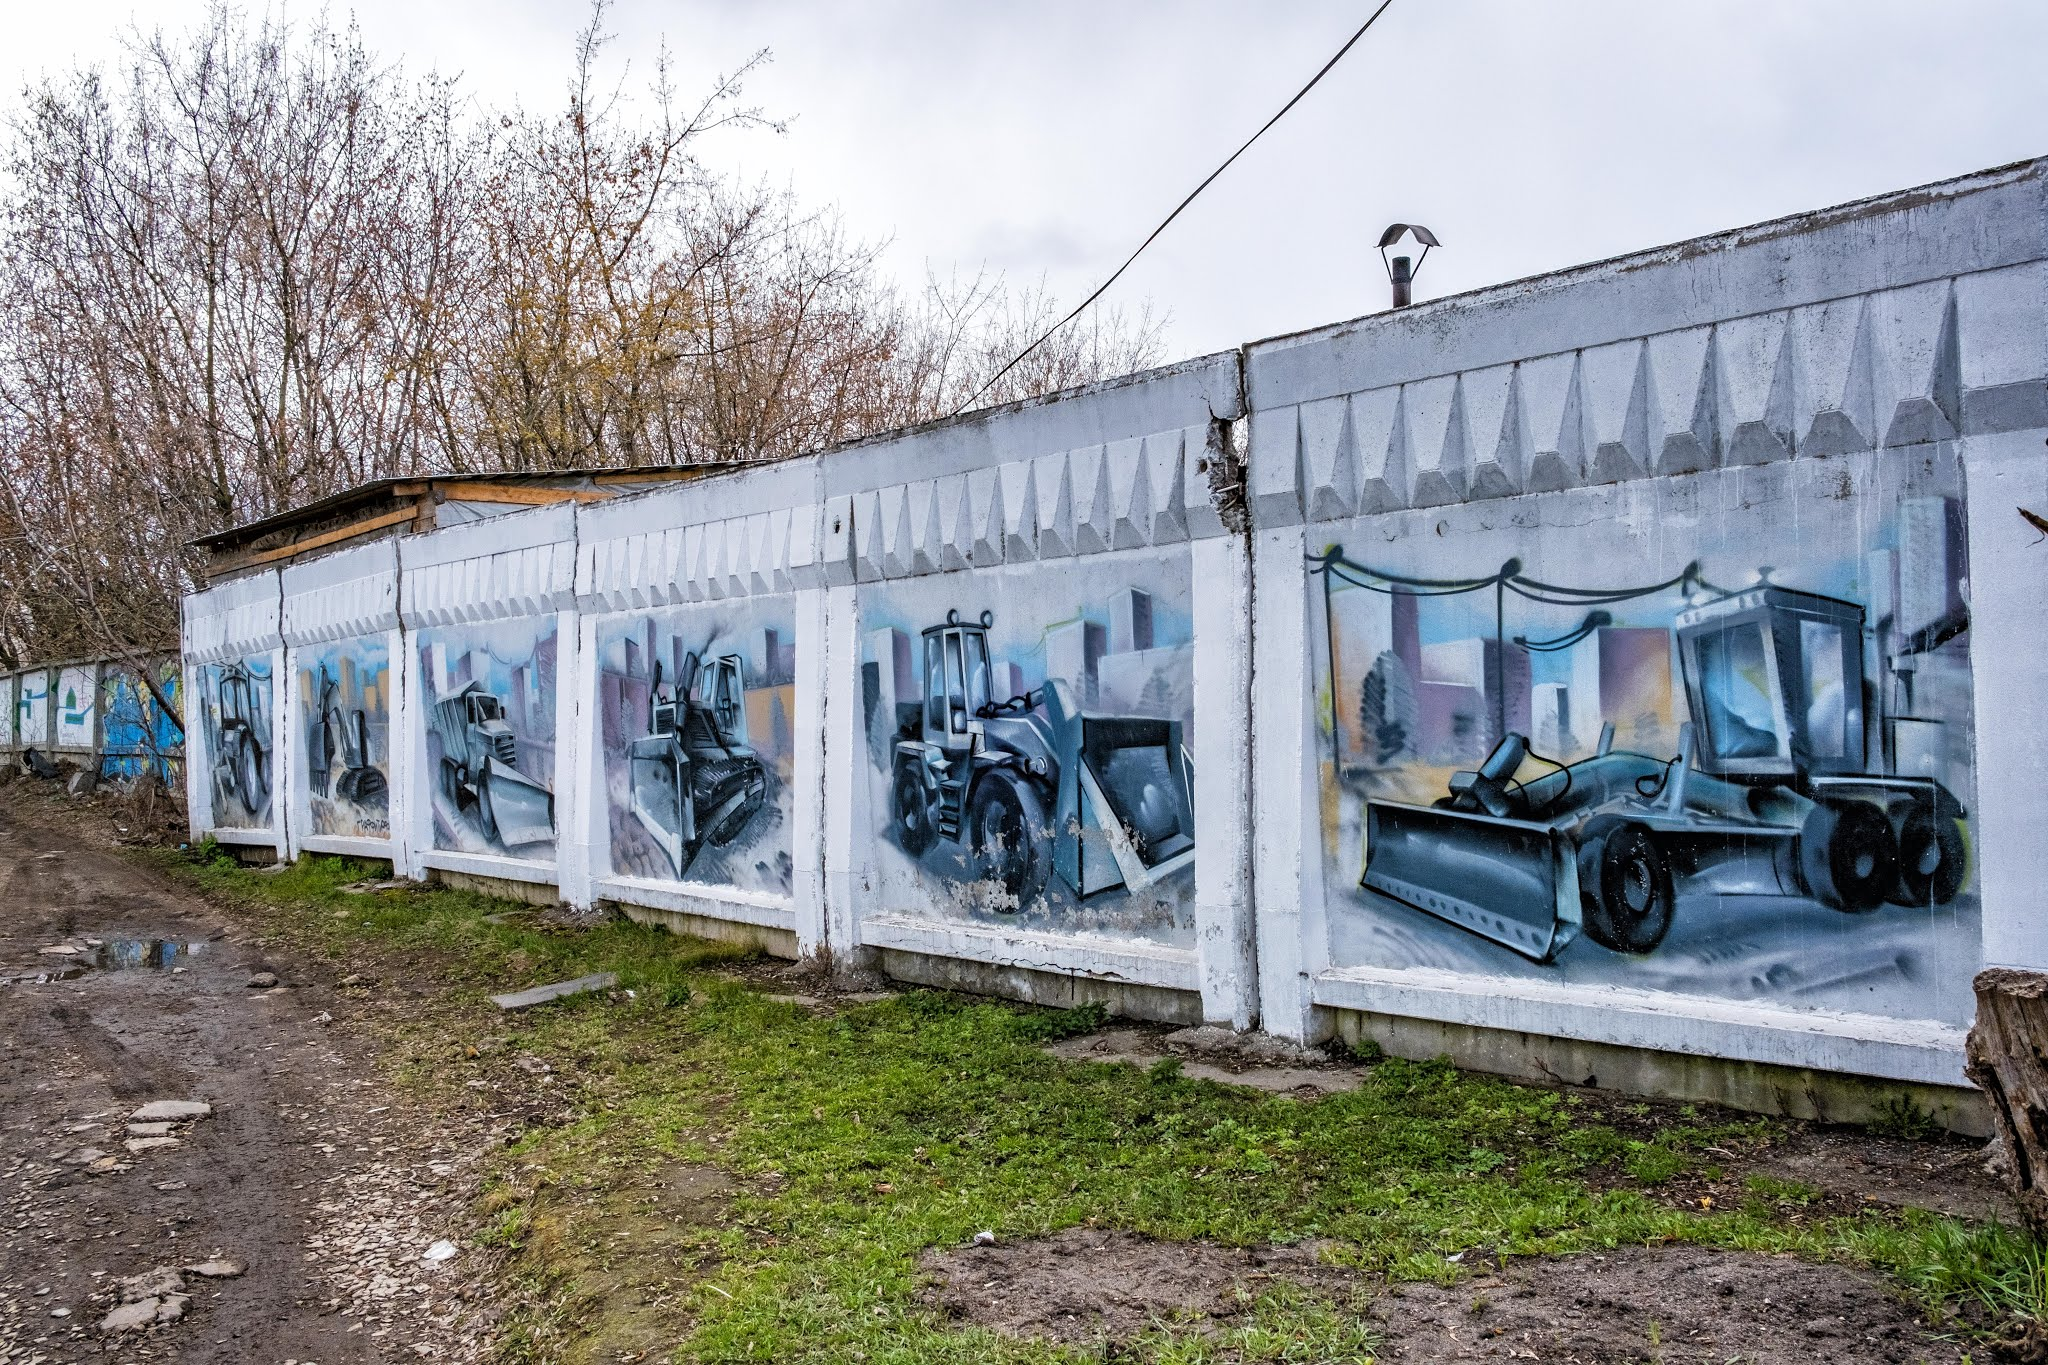graphite: (1306, 523, 1999, 983), (827, 585, 1223, 929), (601, 609, 809, 884), (420, 629, 573, 862), (295, 658, 400, 842), (209, 663, 279, 826)
